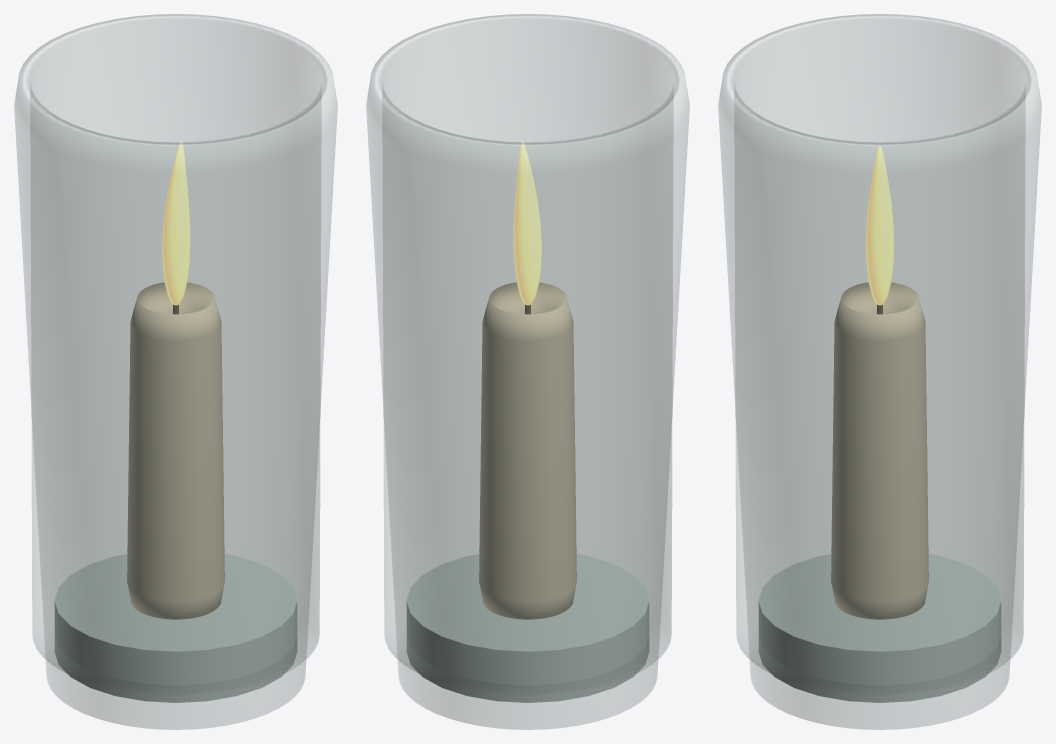
File: icelantern.glb
3 views of the same model, side by side, from view 1: azimuth 30°, elevation 25°; view 2: azimuth 150°, elevation 25°; view 3: azimuth 270°, elevation 25° (orthographic).
Parts seen in each view (by area): view 1: hollow-ice-shell, ice-candle-wax-body, ice-floor, ice-candle-flame; view 2: hollow-ice-shell, ice-candle-wax-body, ice-floor, ice-candle-flame; view 3: hollow-ice-shell, ice-candle-wax-body, ice-floor, ice-candle-flame.
Boxes of the visible parts, x1,y1,x2,y2 form: hollow-ice-shell: [14, 14, 337, 729]; ice-candle-wax-body: [127, 282, 224, 619]; ice-floor: [54, 554, 297, 702]; ice-candle-flame: [162, 141, 190, 305]; hollow-ice-shell: [366, 14, 689, 729]; ice-candle-wax-body: [479, 282, 576, 619]; ice-floor: [406, 554, 649, 702]; ice-candle-flame: [513, 141, 541, 305]; hollow-ice-shell: [718, 14, 1041, 729]; ice-candle-wax-body: [831, 282, 928, 619]; ice-floor: [758, 554, 1001, 702]; ice-candle-flame: [865, 145, 894, 305].
Bounding box in the file's own units: 0.32 × 0.6482 × 0.32.
